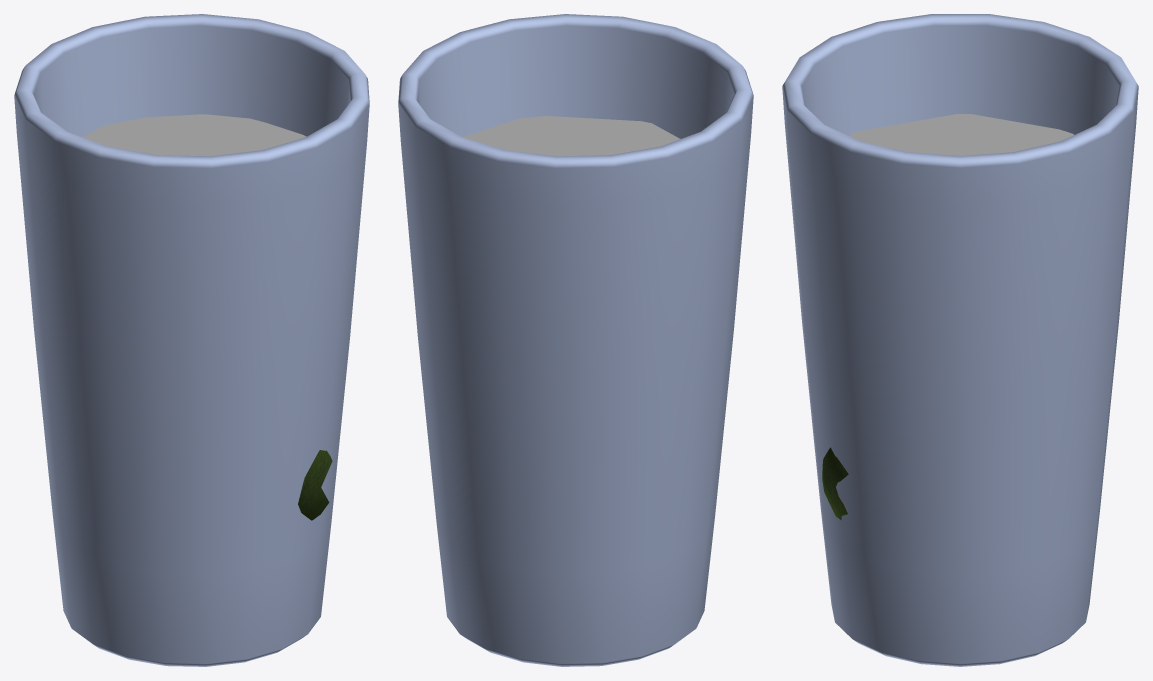
File: lime and glass.fbx
3 renders of one model, left to right at view 1: azimuth 30°, elevation 25°; view 2: azimuth 150°, elevation 25°; view 3: azimuth 270°, elevation 25°, orthographic.
Visible parts, largest first — view 1: Lime1; view 2: Lime1; view 3: Lime1.
Boxes of the visible parts, left/top/right/bottom form: Lime1: left=14, top=14, right=369, bottom=666; Lime1: left=398, top=14, right=753, bottom=666; Lime1: left=782, top=14, right=1138, bottom=666.
Bounding box in the file's own units: 24.75 × 40.63 × 24.84.
3 materials, 1 textured.
